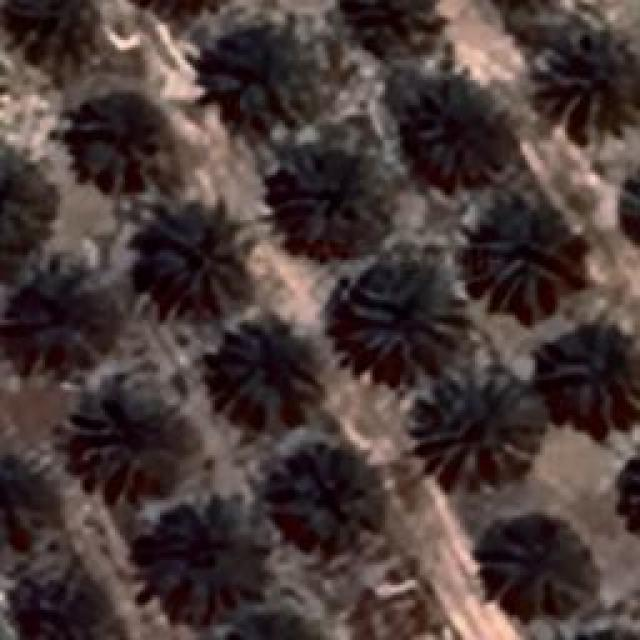PalmTree: (404, 367, 538, 485), (70, 388, 205, 492), (135, 504, 260, 616), (210, 34, 335, 132), (55, 94, 173, 196), (474, 210, 582, 320), (0, 264, 108, 374), (476, 526, 589, 622), (391, 88, 504, 182), (275, 154, 390, 246), (350, 267, 465, 355), (268, 456, 382, 542), (152, 210, 252, 308), (207, 328, 315, 414), (547, 337, 640, 430), (0, 0, 108, 73), (542, 48, 640, 122), (4, 577, 118, 640), (334, 0, 444, 60), (0, 154, 60, 254), (0, 451, 61, 548), (227, 612, 322, 640), (616, 165, 640, 258), (616, 447, 640, 540)
